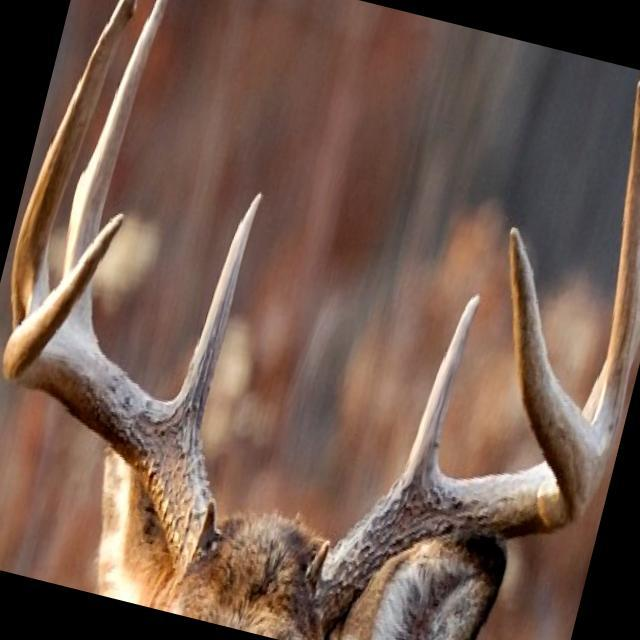L-F: (315, 222, 605, 628)
L-G1: (397, 291, 482, 485)
L-G3: (582, 78, 640, 439)
R-F: (1, 208, 211, 570)
R-G1: (174, 192, 262, 438)
R-G3: (9, 0, 138, 332)
